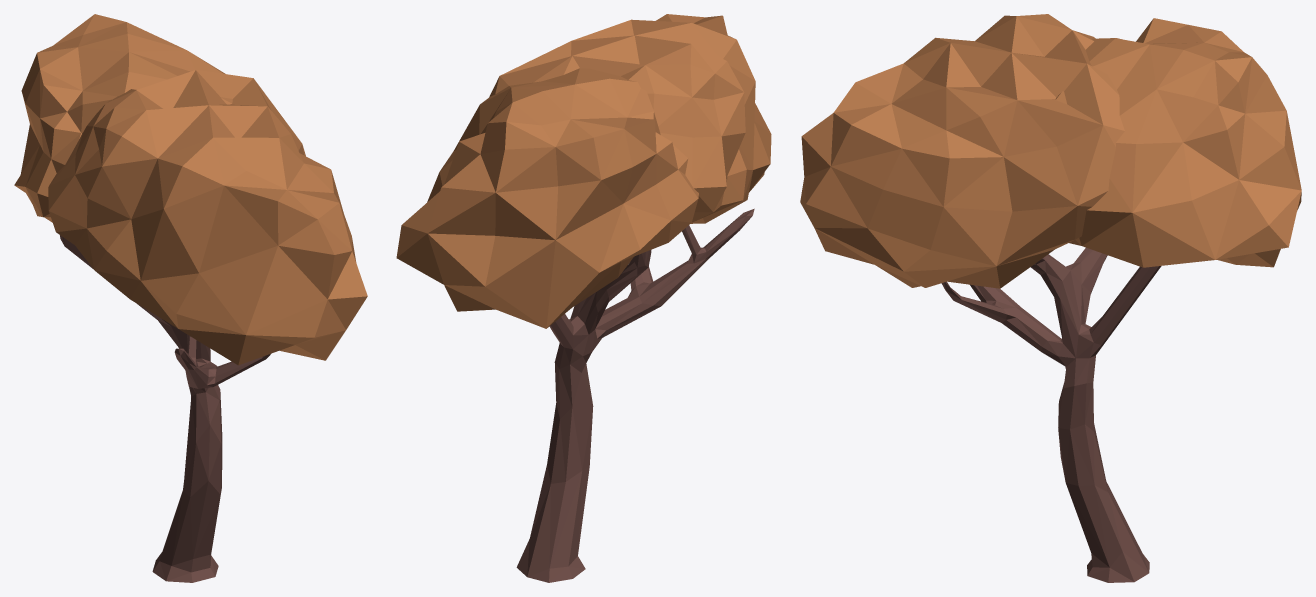
File: CommonTree_Autumn_5.lod1.glb
The picture shows the model from 3 angles, left to right: view 1: azimuth 30°, elevation 25°; view 2: azimuth 150°, elevation 25°; view 3: azimuth 270°, elevation 25°; orthographic projection.
Visible parts, largest first — view 1: CommonTree_Autumn_5; view 2: CommonTree_Autumn_5; view 3: CommonTree_Autumn_5.
Boxes of the visible parts, x1,y1,x2,y2 form: CommonTree_Autumn_5: [14, 14, 367, 582]; CommonTree_Autumn_5: [396, 14, 771, 582]; CommonTree_Autumn_5: [800, 14, 1301, 582].
Bounding box in the file's own units: 1.29 × 2.53 × 2.25.
